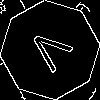V: (25, 25, 81, 79)
